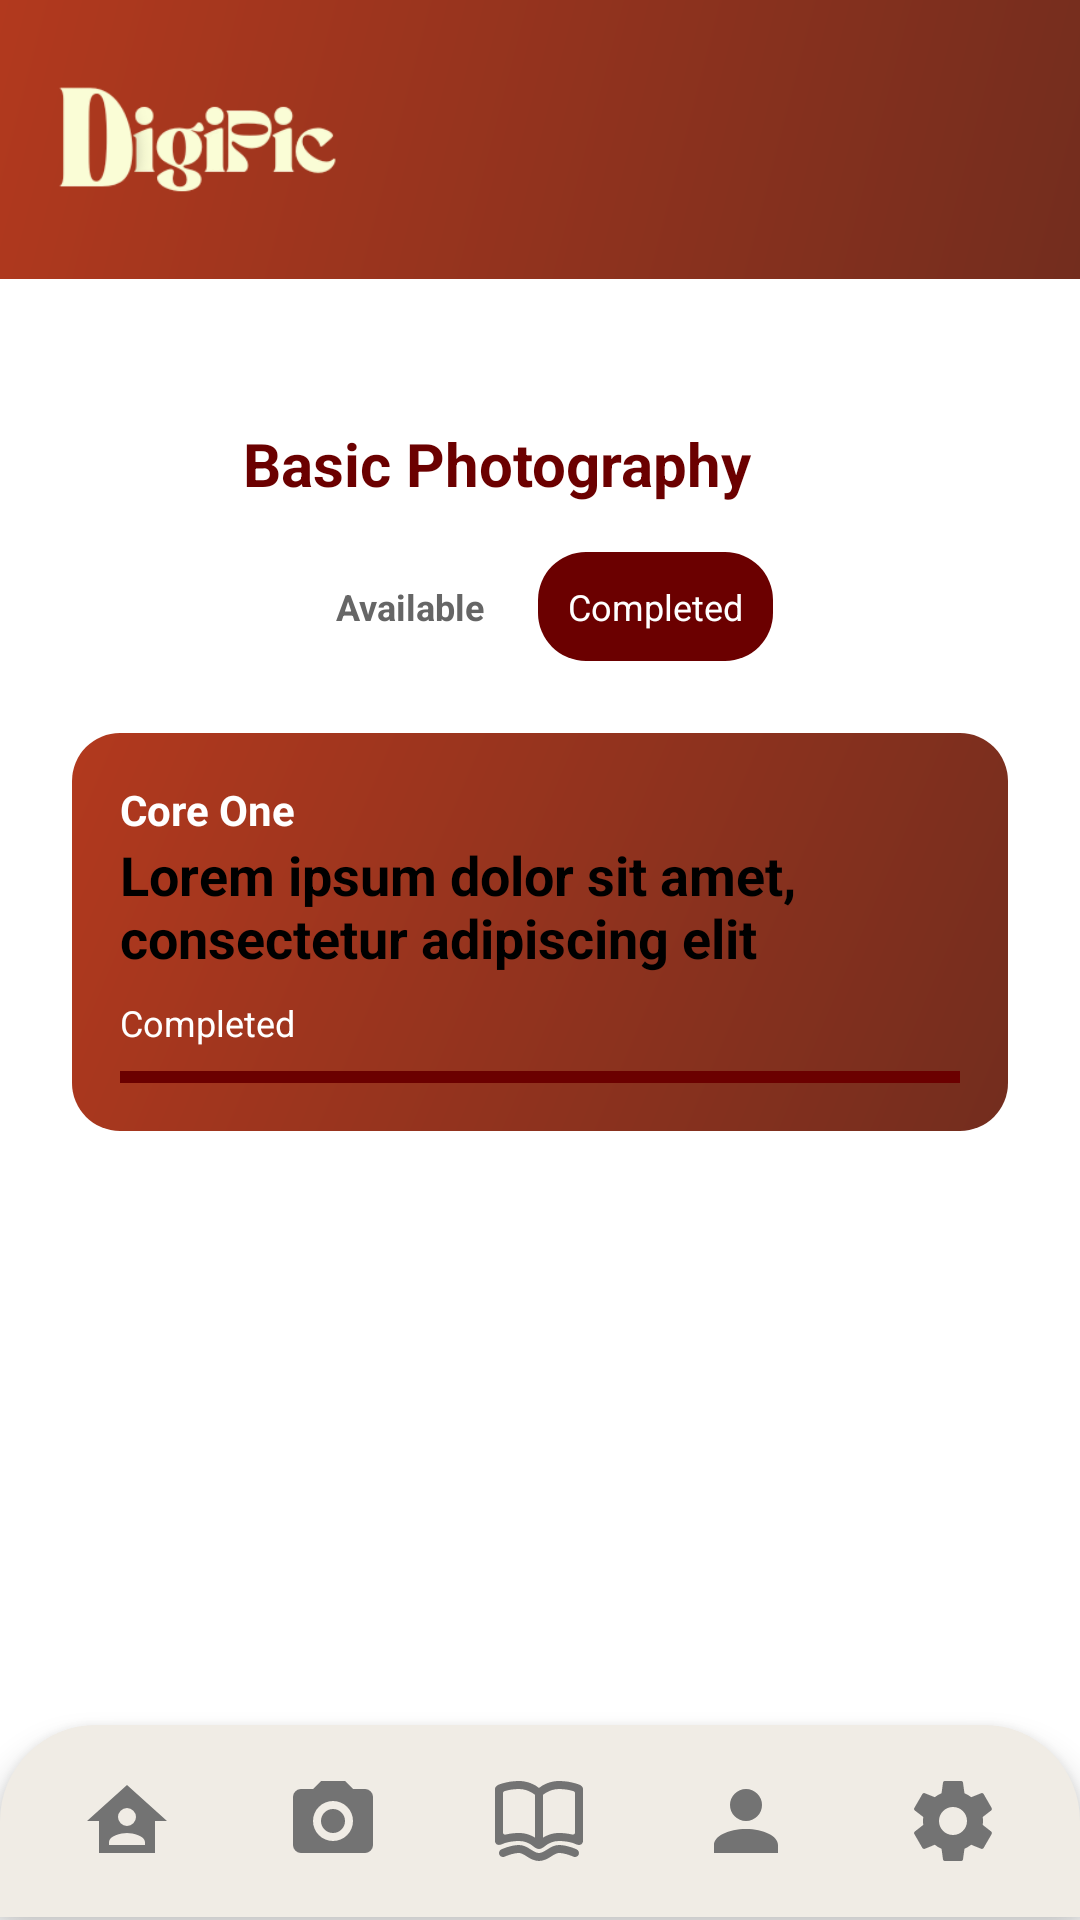

Point at icon controls on the screen. Image size 1080 x 1920, points as (x,y).
Home: (127,1819)
Profile: (746,1821)
Settings: (953,1821)
